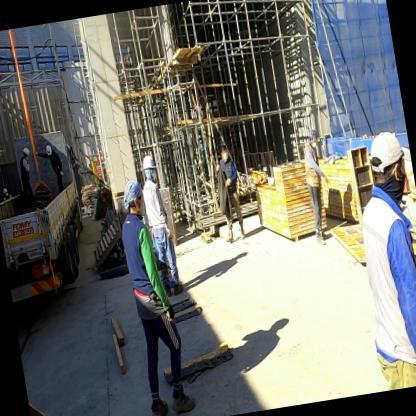safety-shoe: (169, 384, 204, 415), (145, 397, 175, 415)
